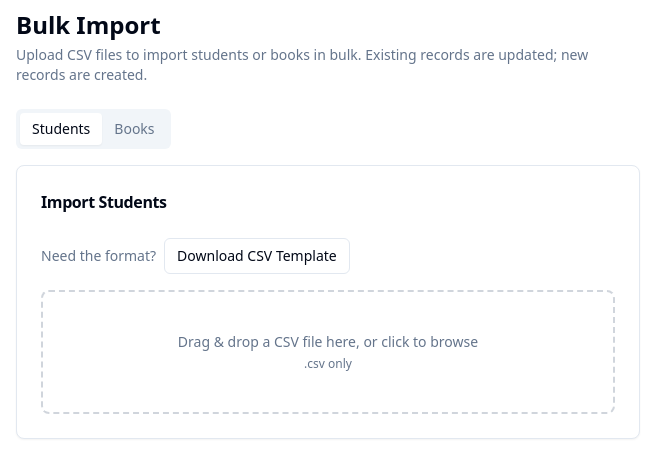
Test: BulkImportPage › shows Books tab content when Books tab clicked
Click the tab "Books" at (134, 129), box [102,113,166,145]
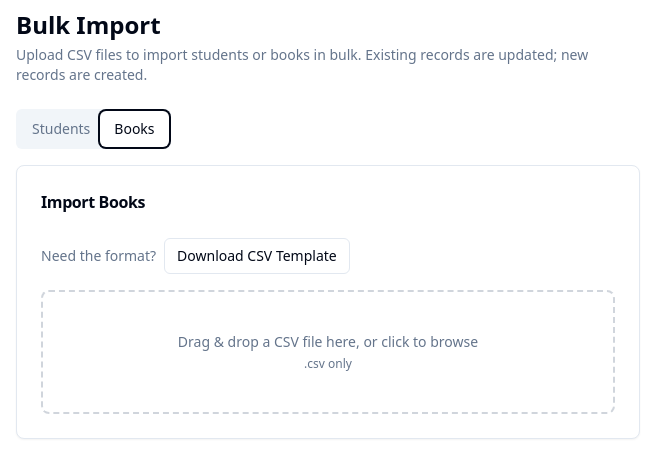
Expected: the text "Import Books" is shown, [41,191,145,213]
